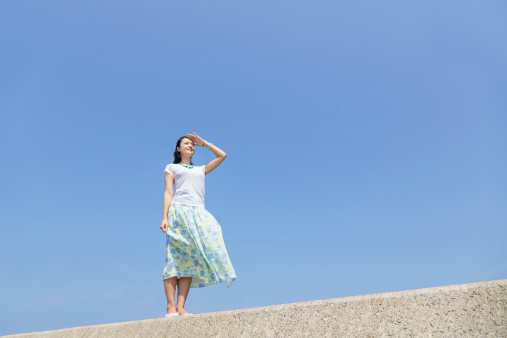em pe: (159, 121, 236, 327)
